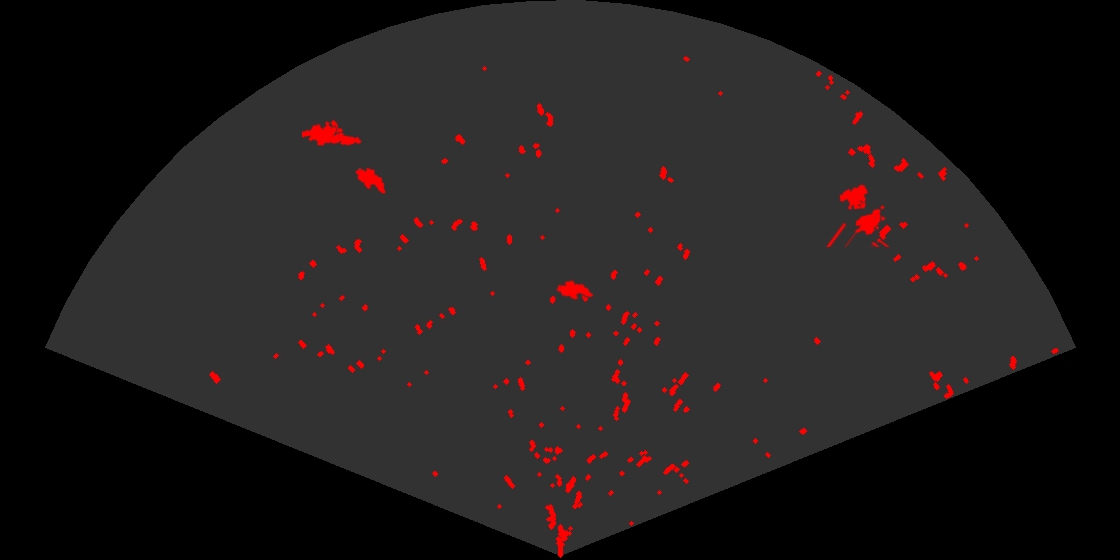AUV: (354, 166, 387, 195), (555, 279, 595, 301)
cage: (825, 183, 891, 247)
frogman: (302, 119, 362, 148)
